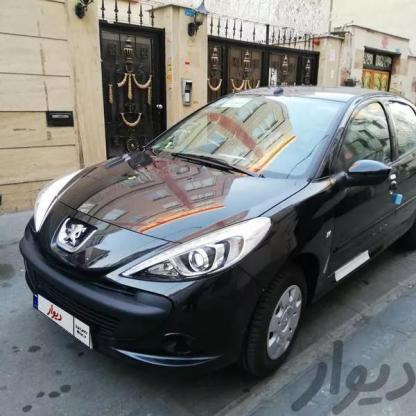Car: (21, 89, 416, 380)
